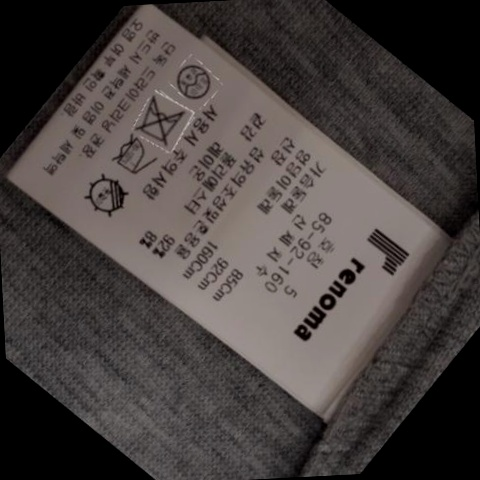DN_wash: (137, 98, 190, 143)
dry_clean_petrol_only: (175, 60, 216, 100)
iron_low: (110, 137, 157, 177)
line_dry_in_shade: (85, 175, 136, 217)
